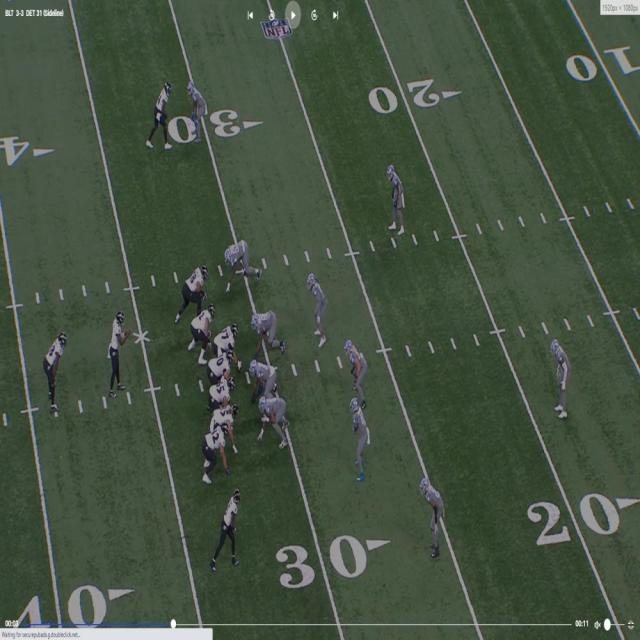center: (216, 322, 241, 352)
db: (44, 334, 69, 416), (422, 474, 444, 554), (550, 339, 568, 417), (387, 163, 405, 240), (186, 82, 207, 144)
lb: (346, 335, 368, 414), (306, 267, 326, 345), (352, 398, 369, 474)
qb: (108, 307, 126, 398)
skill: (218, 488, 243, 569), (203, 424, 230, 479), (148, 82, 171, 138), (218, 403, 238, 455)
